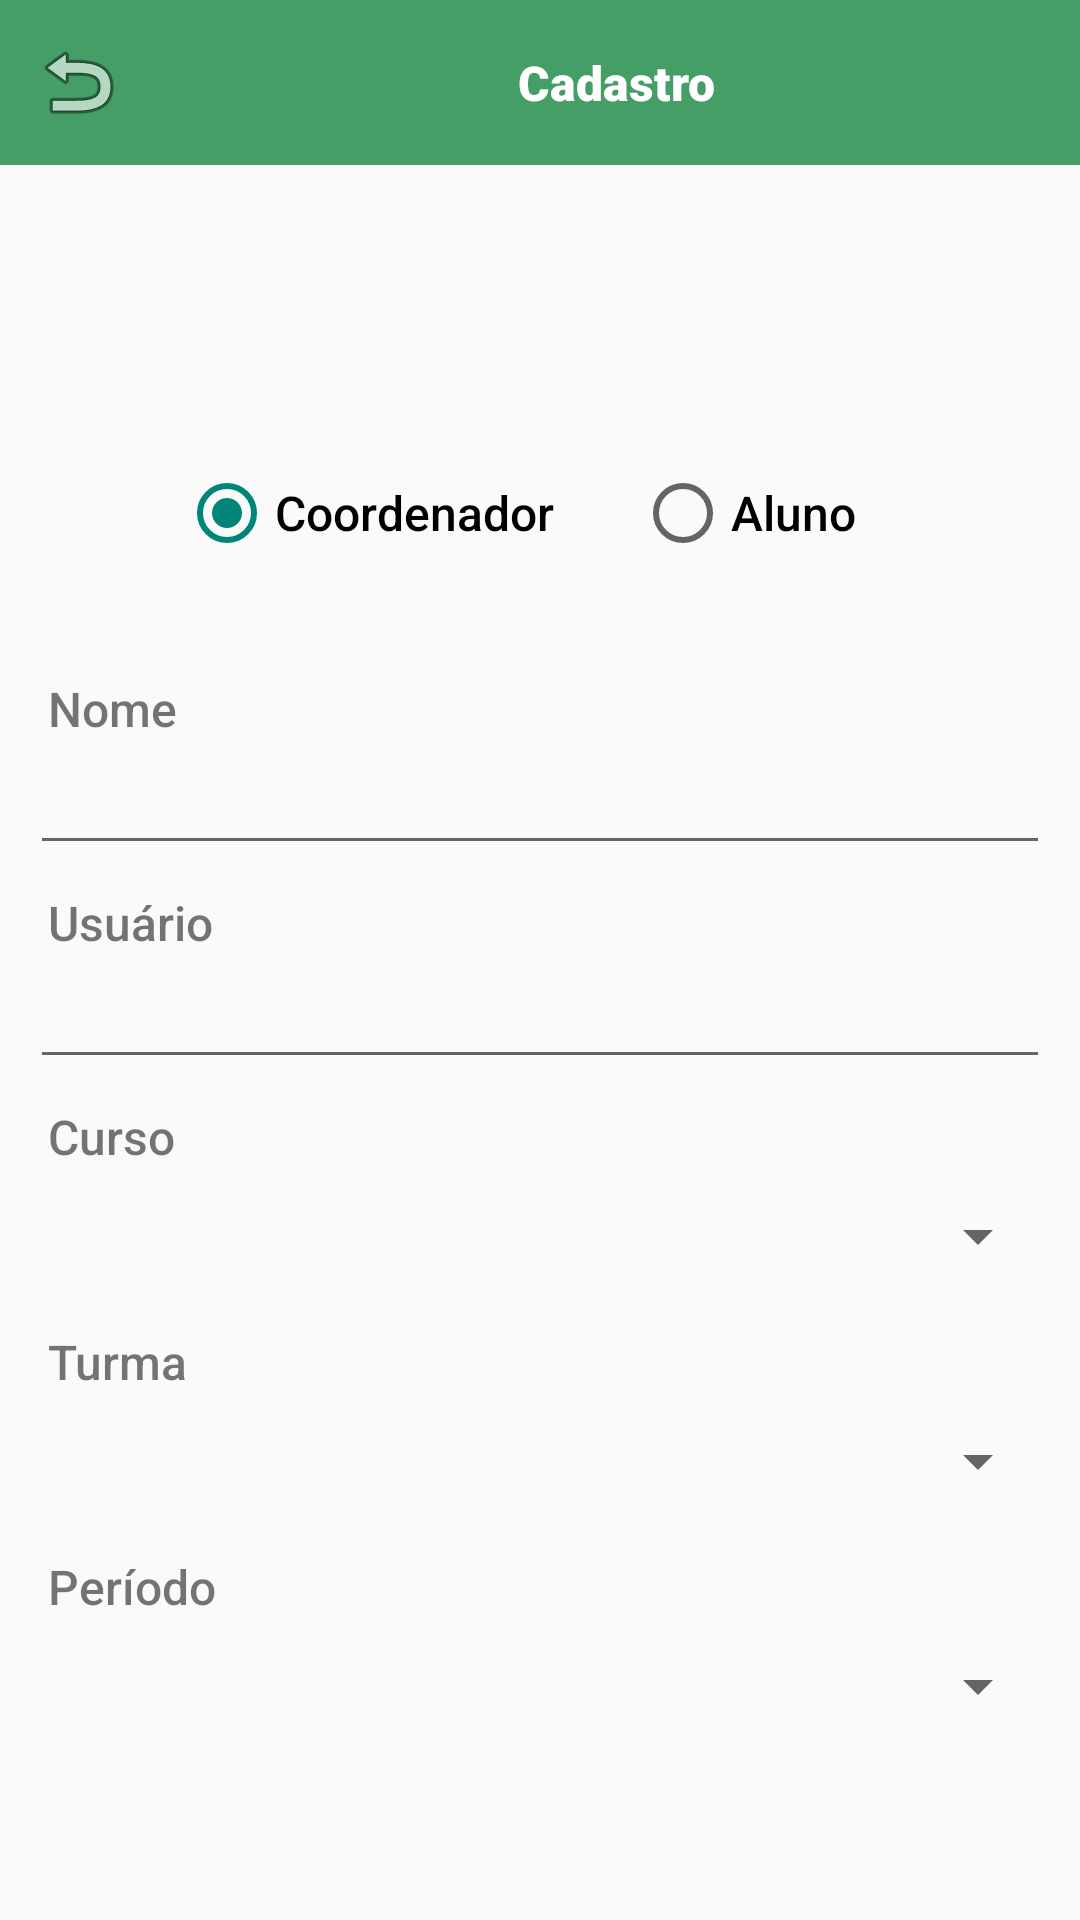

Point at icon controls on the screen. Image size 1080w x 1920h, points as [x,y].
revert: [79,83]
